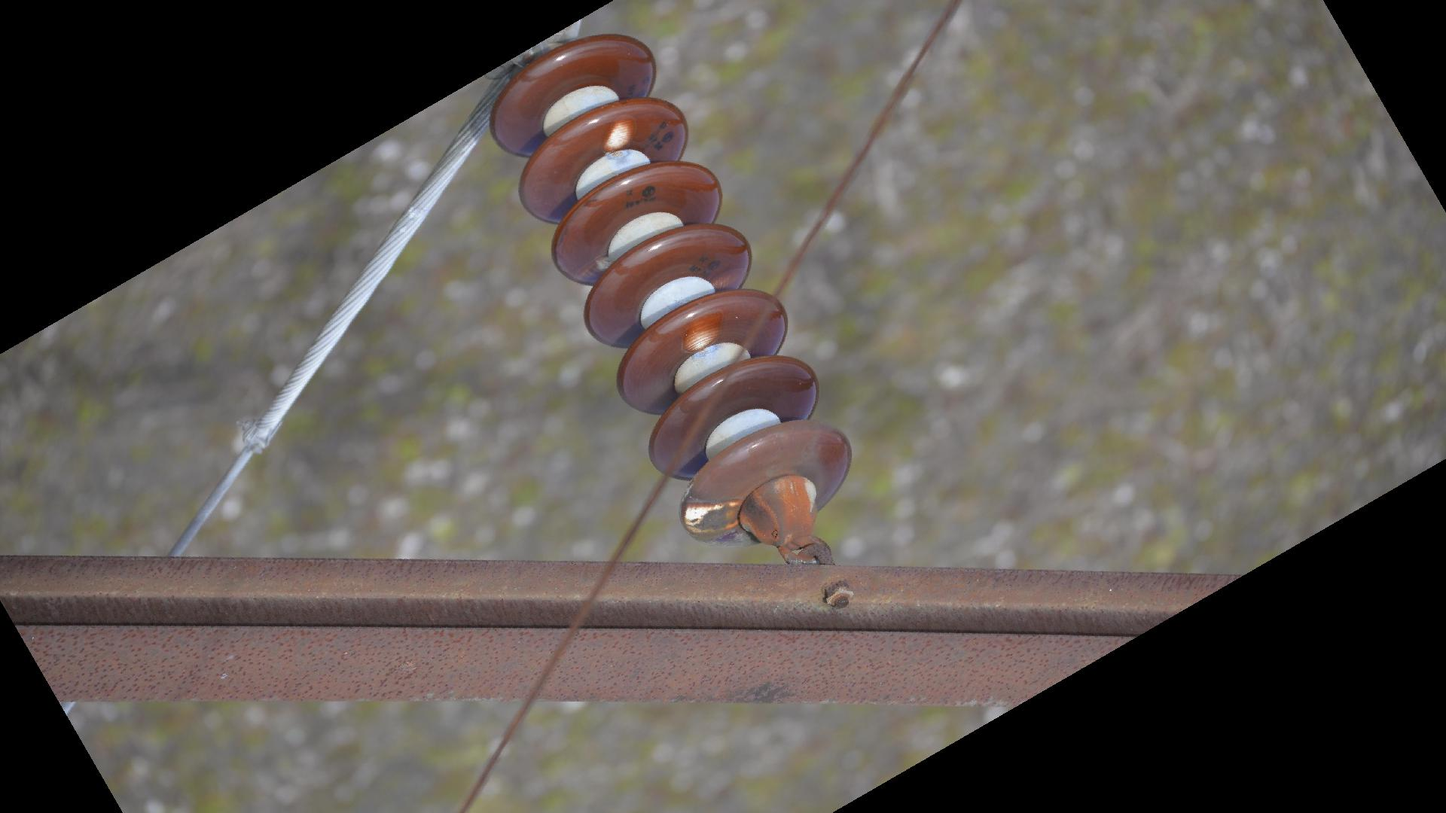insulator: (487, 31, 859, 551)
insulator_flashover: (679, 499, 743, 542), (681, 305, 727, 356), (602, 113, 639, 152), (572, 253, 614, 285)
